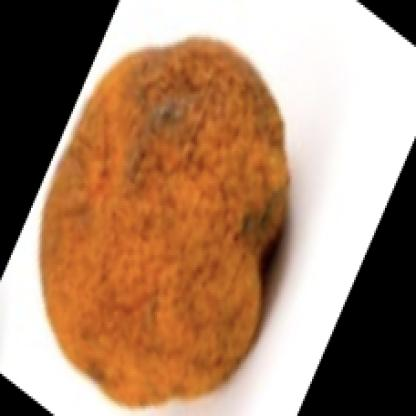rotten: (38, 39, 290, 402)
